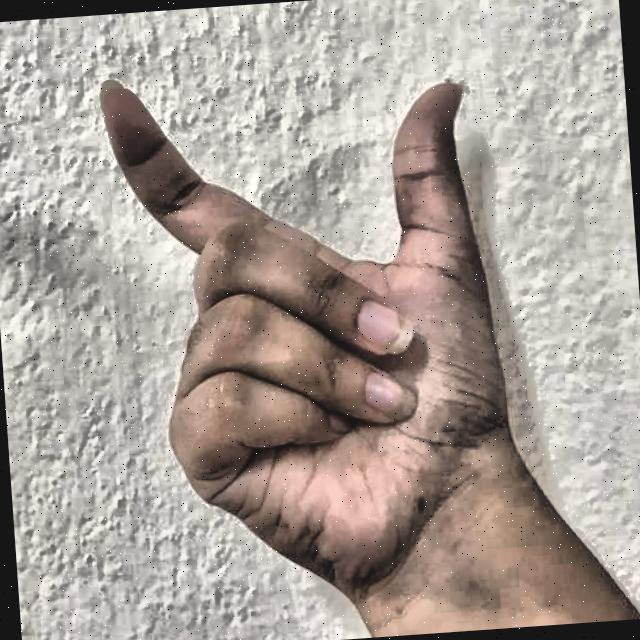ChandraBindu: (76, 19, 580, 615)
